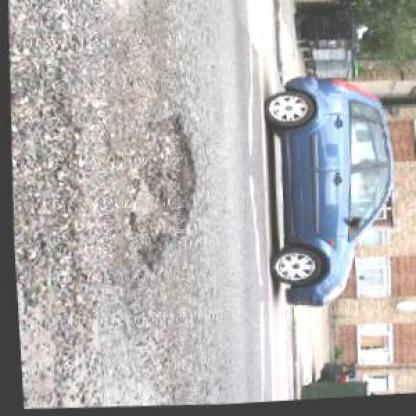pothole: (115, 112, 203, 276)
